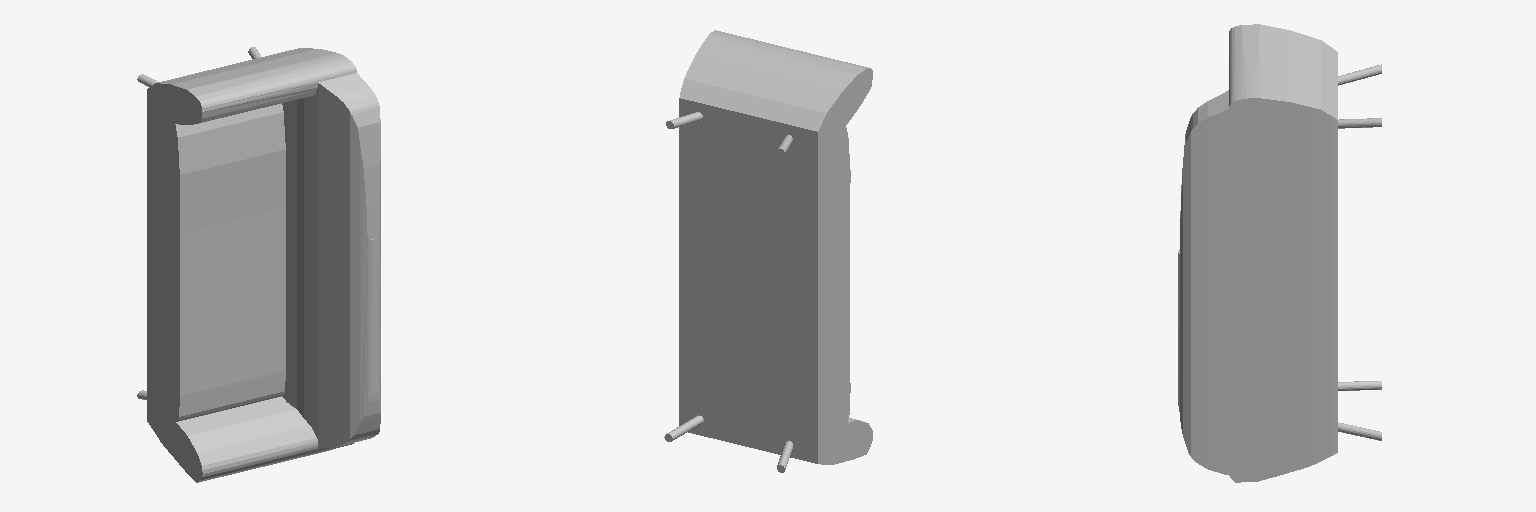
Rendered from OfficeSofa.obj.
3 views of the same model, side by side, from view 1: azimuth 30°, elevation 25°; view 2: azimuth 150°, elevation 25°; view 3: azimuth 270°, elevation 25° (orthographic).
Visible parts, largest first — view 1: 设计图层-1; view 2: 设计图层-1; view 3: 设计图层-1.
Boxes of the visible parts, box(x1,y1,x2,y2) form: 设计图层-1: box(137, 47, 380, 482); 设计图层-1: box(664, 30, 872, 472); 设计图层-1: box(1178, 24, 1381, 482).
Size of the model in its own units: 0.7388 by 1.72 by 0.8186.